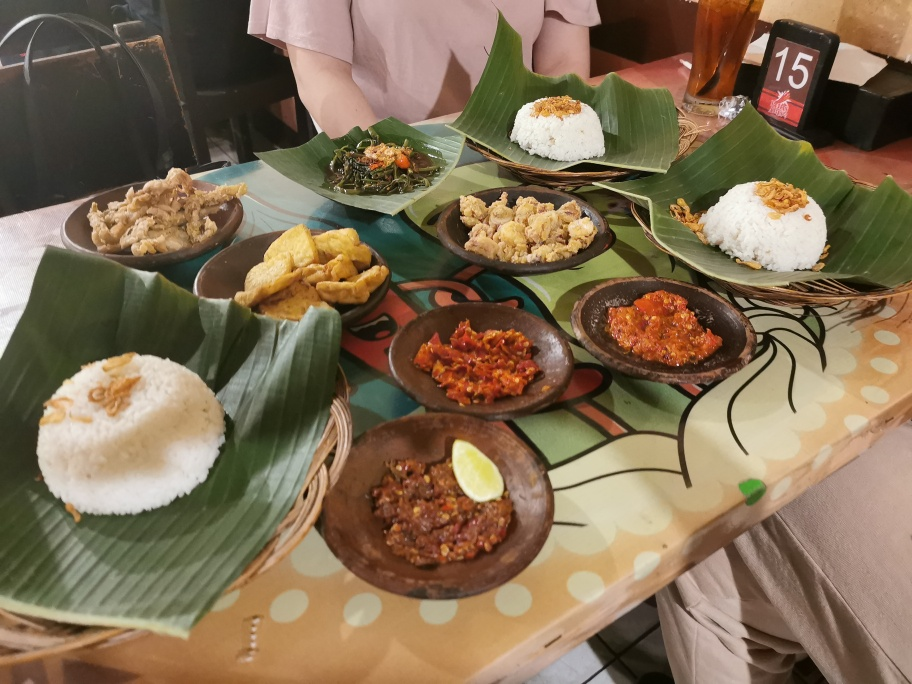nasi putih: (40, 350, 226, 515), (708, 174, 831, 276), (512, 90, 606, 164)
